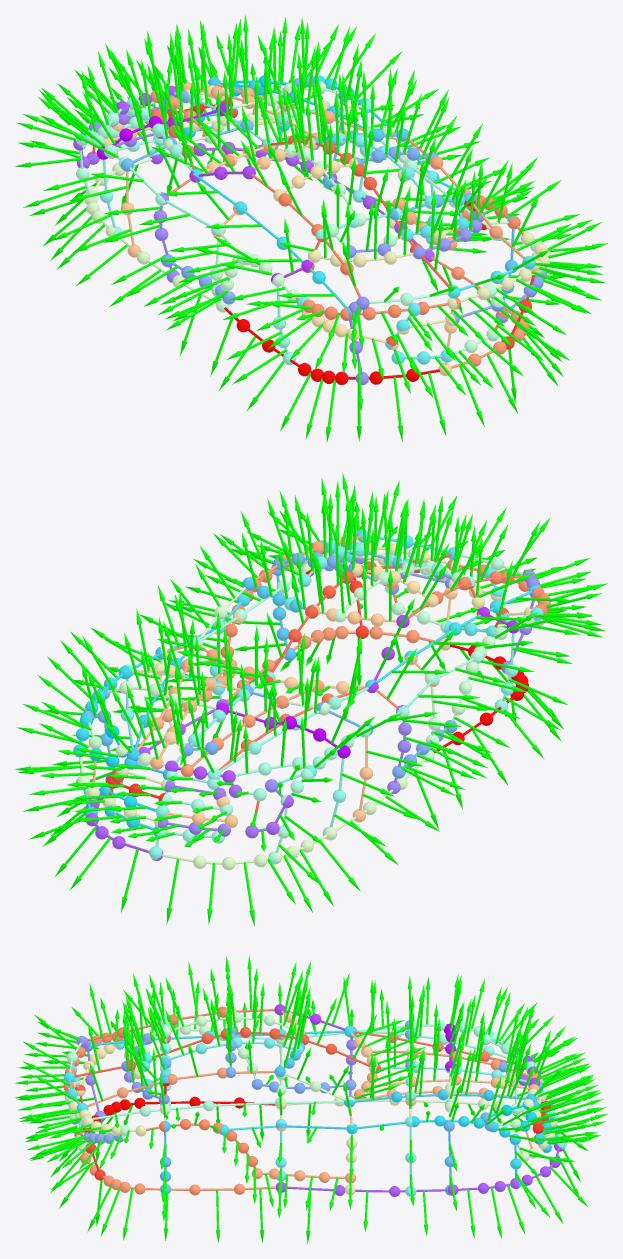
Rendered from ils_car5.gltf.
3 views of the same model, one above another, from view 1: azimuth 30°, elevation 25°; view 2: azimuth 150°, elevation 25°; view 3: azimuth 270°, elevation 25° (orthographic). The views are drawn at different scales.
Size of the model in its own units: 0.6143 by 0.4274 by 1.06.
